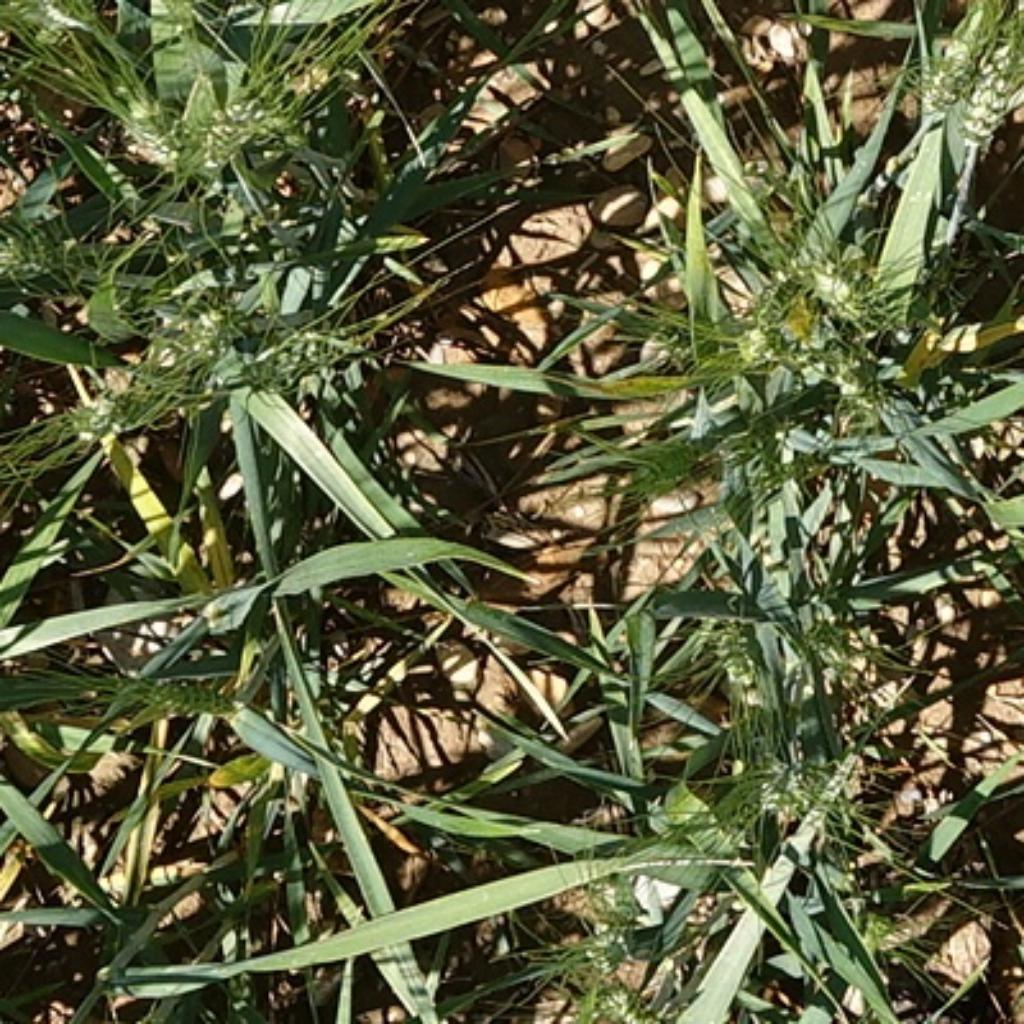0-0: (912, 0, 1009, 133), (59, 344, 162, 458), (558, 877, 663, 972), (130, 659, 279, 723), (701, 614, 793, 706), (117, 79, 209, 168), (963, 34, 1024, 162), (621, 430, 716, 506), (202, 91, 296, 165), (793, 256, 878, 330), (152, 306, 236, 380), (741, 764, 820, 841), (701, 302, 783, 373)
